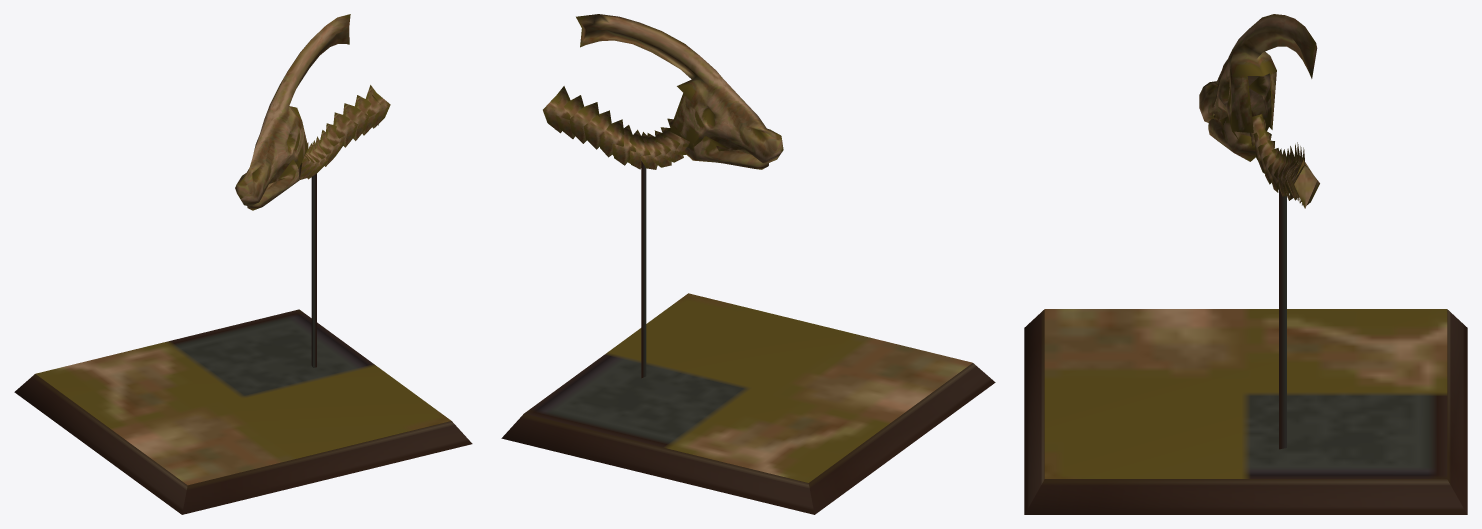
The model's file is int_din_para_a.dae.
The picture shows the model from 3 angles, left to right: view 1: azimuth 30°, elevation 25°; view 2: azimuth 150°, elevation 25°; view 3: azimuth 270°, elevation 25°; orthographic projection. The views are drawn at different scales.
Visible parts, largest first — view 1: int_din_para_a; view 2: int_din_para_a; view 3: int_din_para_a.
Part boxes in pixels (box(x1,y1,x2,y2)): int_din_para_a: box(14, 14, 472, 514); int_din_para_a: box(501, 14, 995, 514); int_din_para_a: box(1024, 14, 1467, 514).
Bounding box in the file's own units: 62.69 × 68.61 × 58.65.
Materials: 1 (1 with a texture image).
